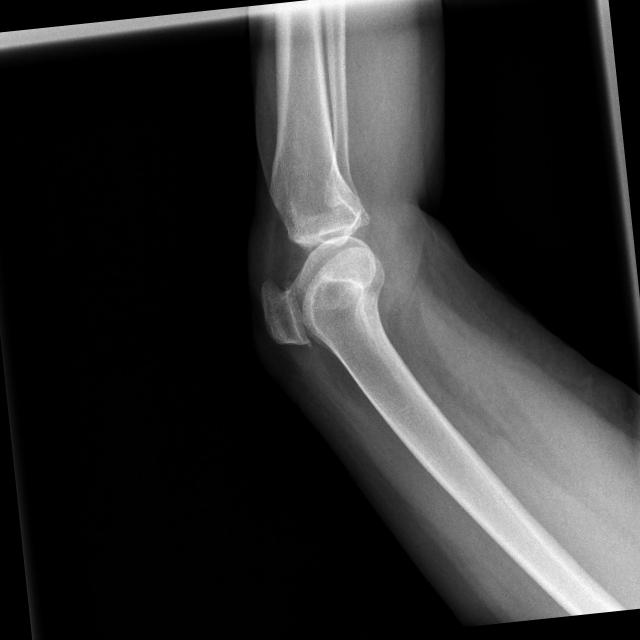Knee: (250, 179, 398, 353)
